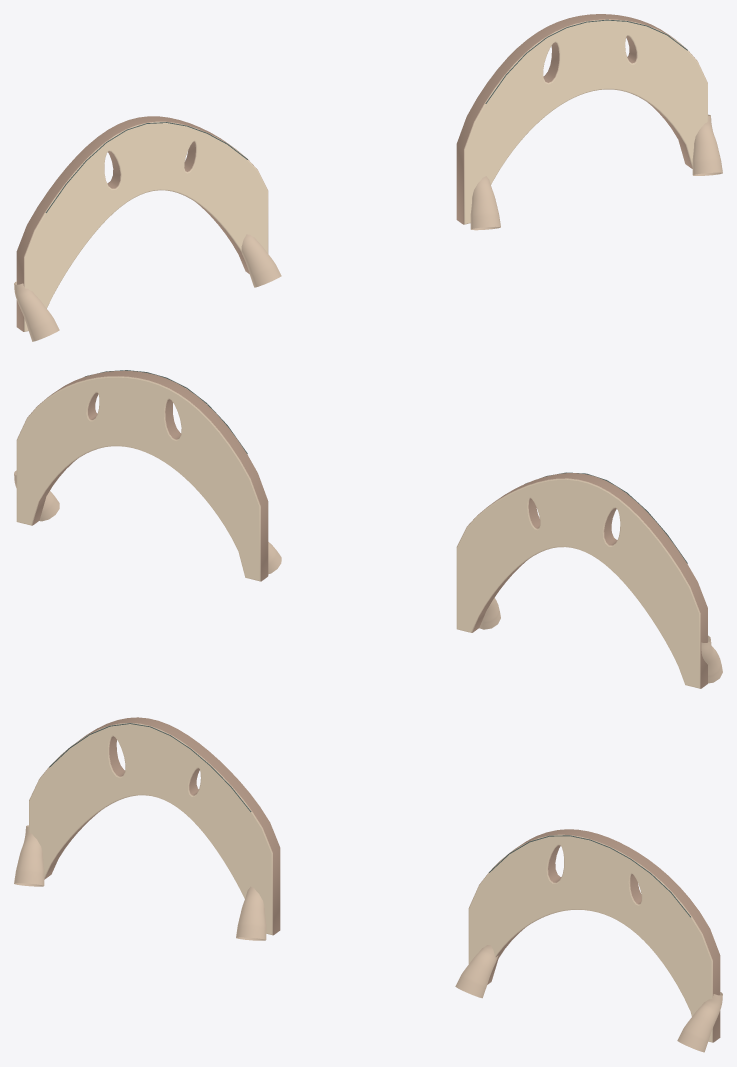
Rendered from rear-arch-wings-v3.glb.
The picture shows the model from 3 angles, top to bottom: view 1: azimuth 30°, elevation 25°; view 2: azimuth 150°, elevation 25°; view 3: azimuth 330°, elevation 25°; orthographic projection.
Parts seen in each view (by area): view 1: TG03_REAR_DEPTH; view 2: TG03_REAR_DEPTH; view 3: TG03_REAR_DEPTH.
Part boxes in pixels (x1,y1,x2,y2): TG03_REAR_DEPTH: (14,14,722,341); TG03_REAR_DEPTH: (14,370,722,688); TG03_REAR_DEPTH: (14,717,722,1052).
Size of the model in its own units: 19.33 by 4.92 by 1.22.
